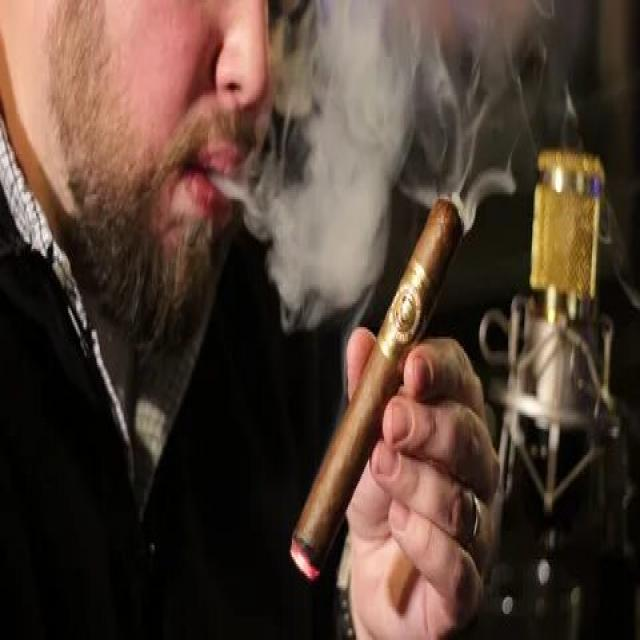cigarette: (291, 190, 468, 580)
